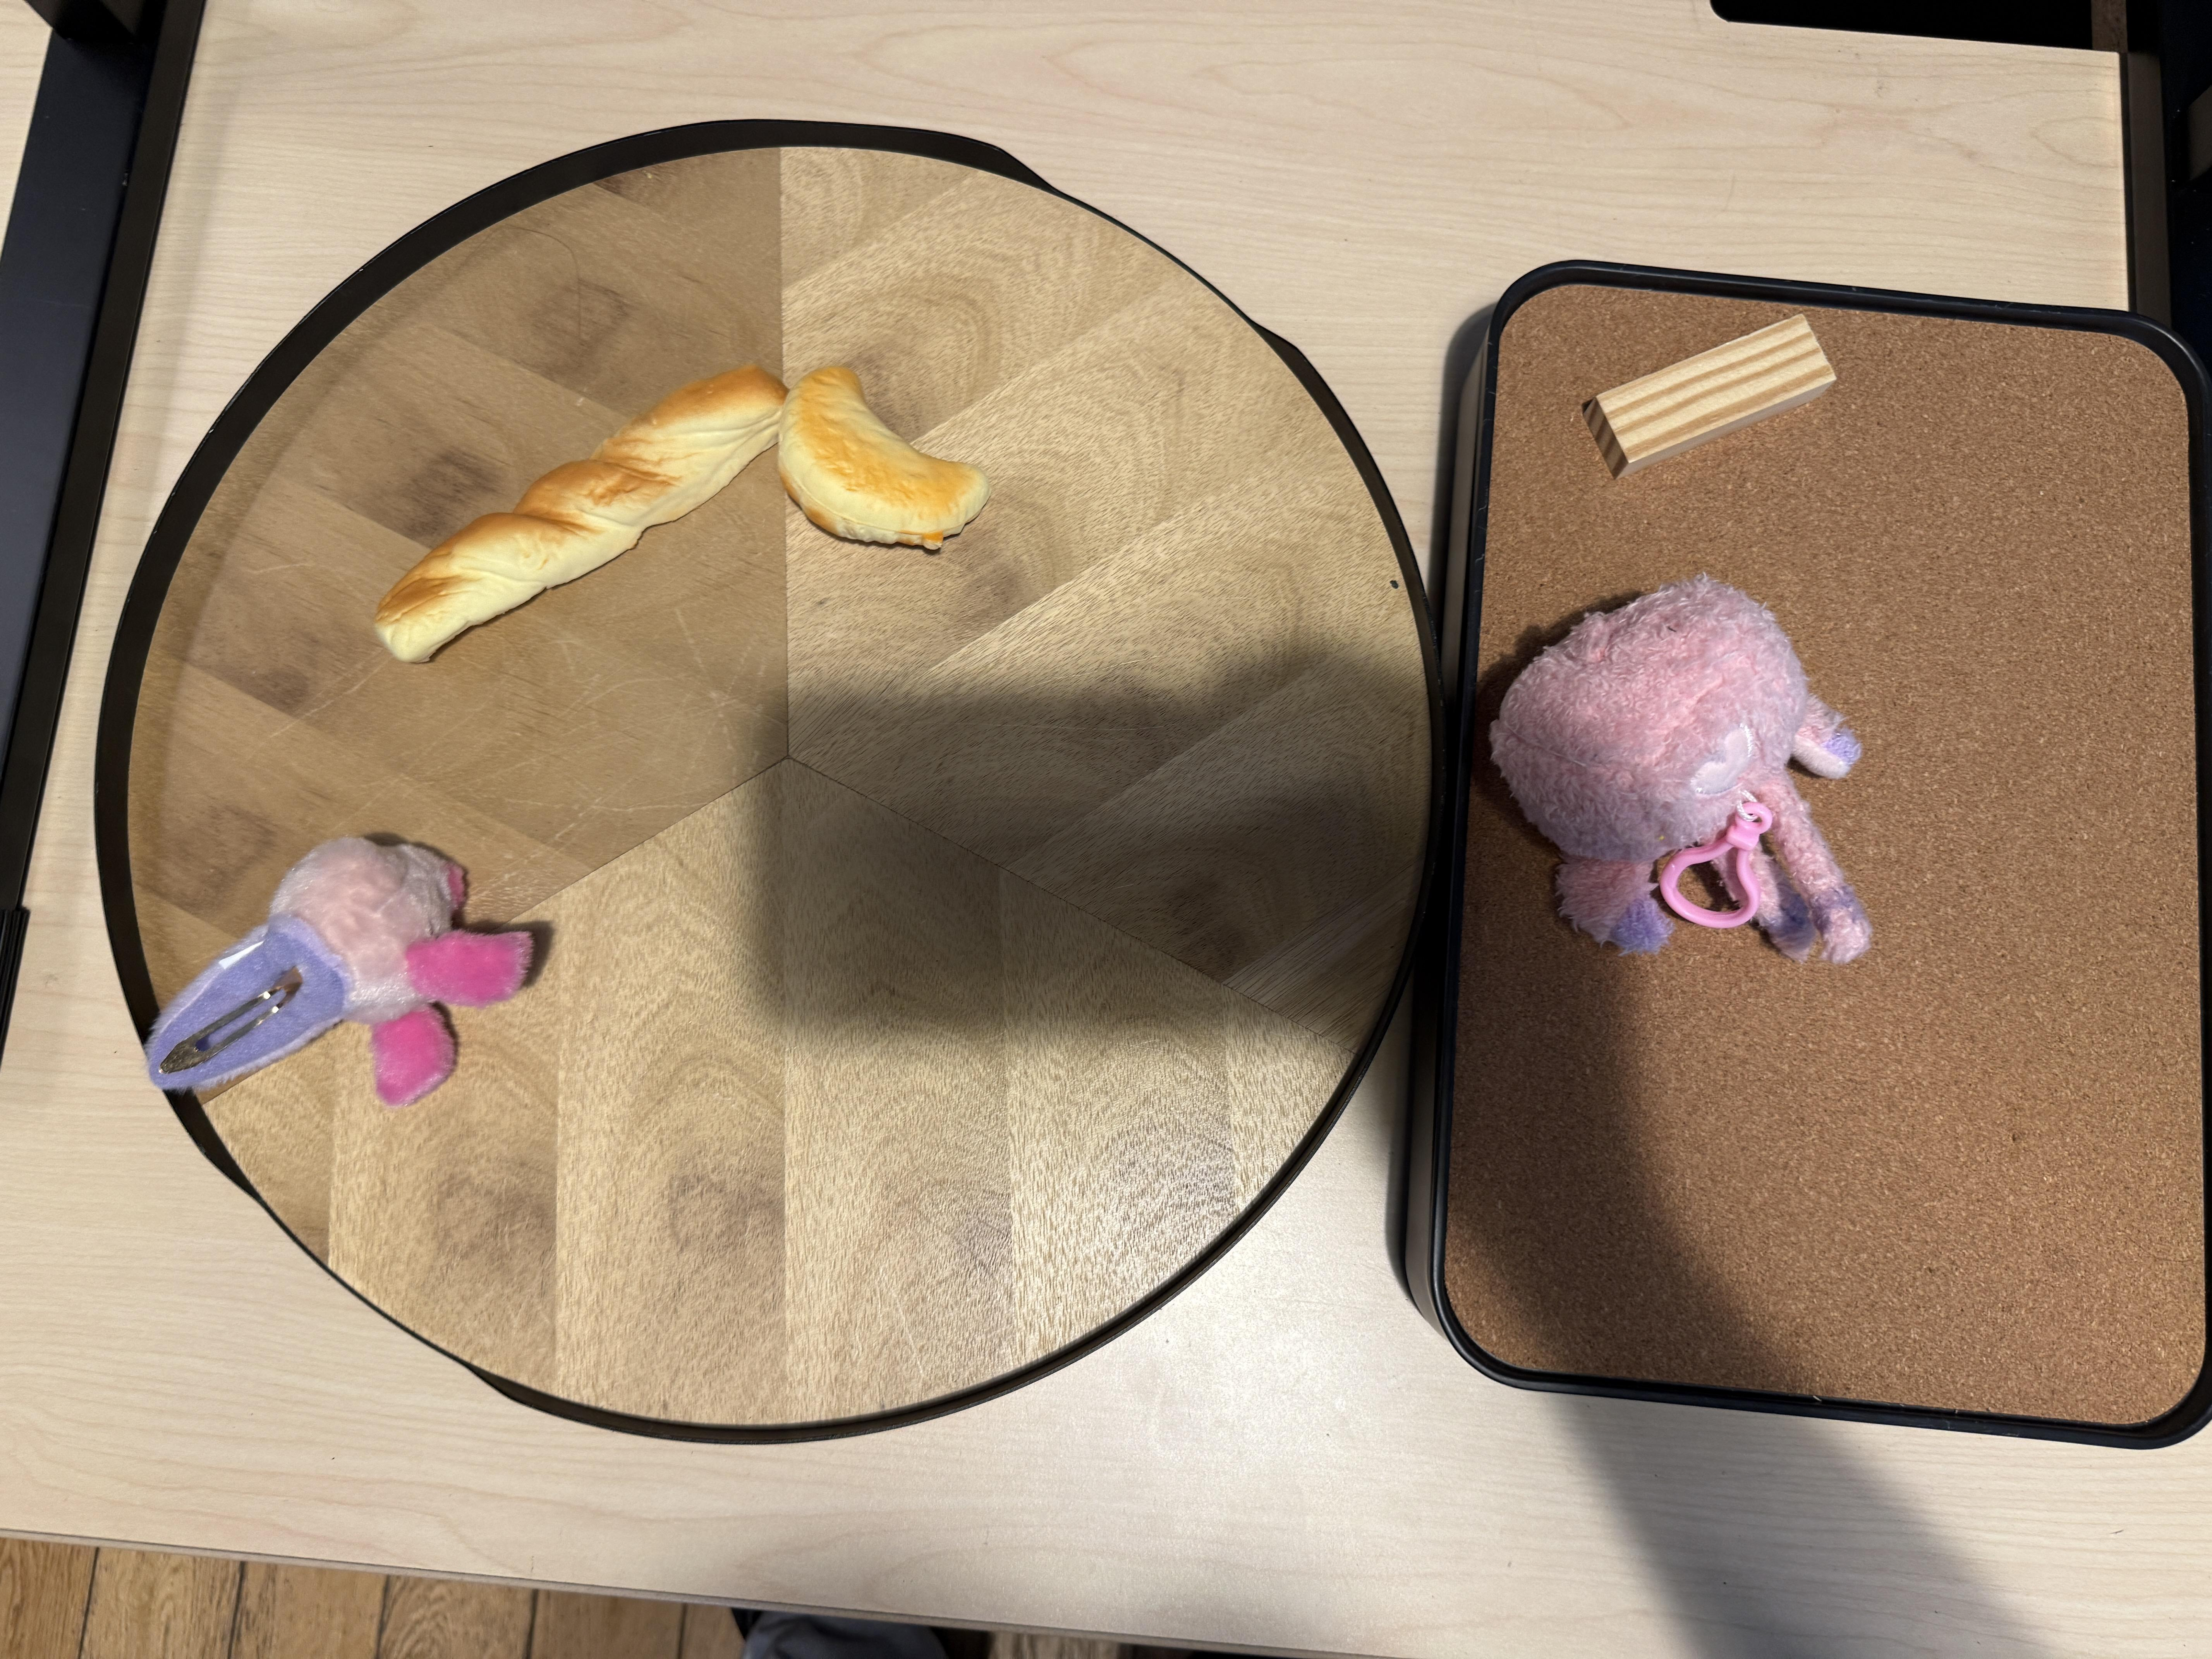block: (1580, 312, 1839, 472)
bread: (378, 362, 786, 666), (786, 361, 989, 544)
doll: (1494, 573, 1879, 958), (148, 835, 535, 1108)
